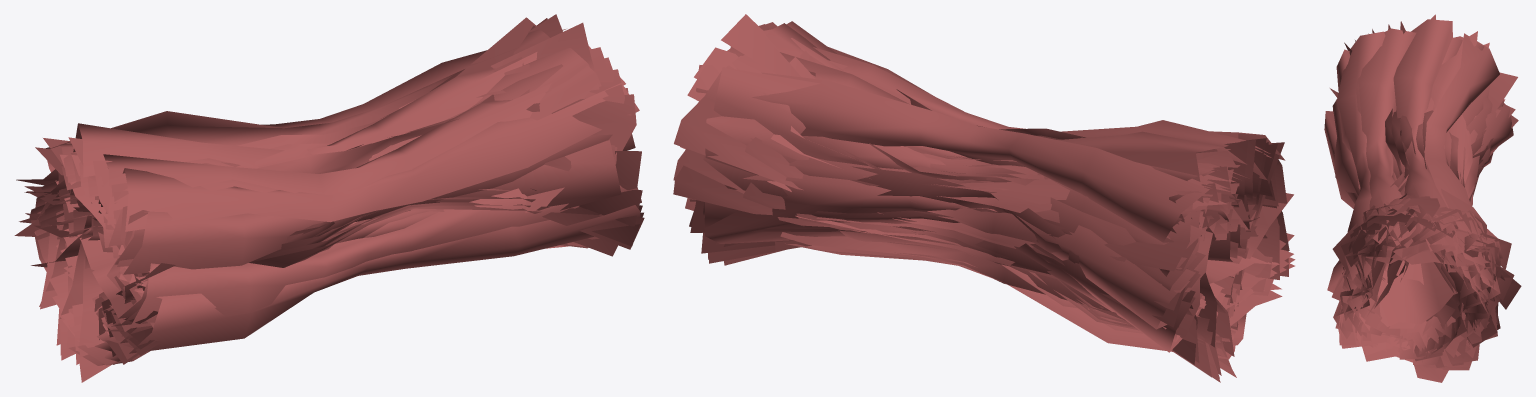
Rendered from Hay 1.fbx.
3 views of the same model, side by side, from view 1: azimuth 30°, elevation 25°; view 2: azimuth 150°, elevation 25°; view 3: azimuth 270°, elevation 25° (orthographic). The views are drawn at different scales.
Visible parts, largest first — view 1: Hay; view 2: Hay; view 3: Hay.
Part boxes in pixels (x1,y1,x2,y2): Hay: (14,14,644,382); Hay: (673,14,1295,382); Hay: (1324,14,1521,382).
Size of the model in its own units: 78.58 by 35.06 by 33.65.
